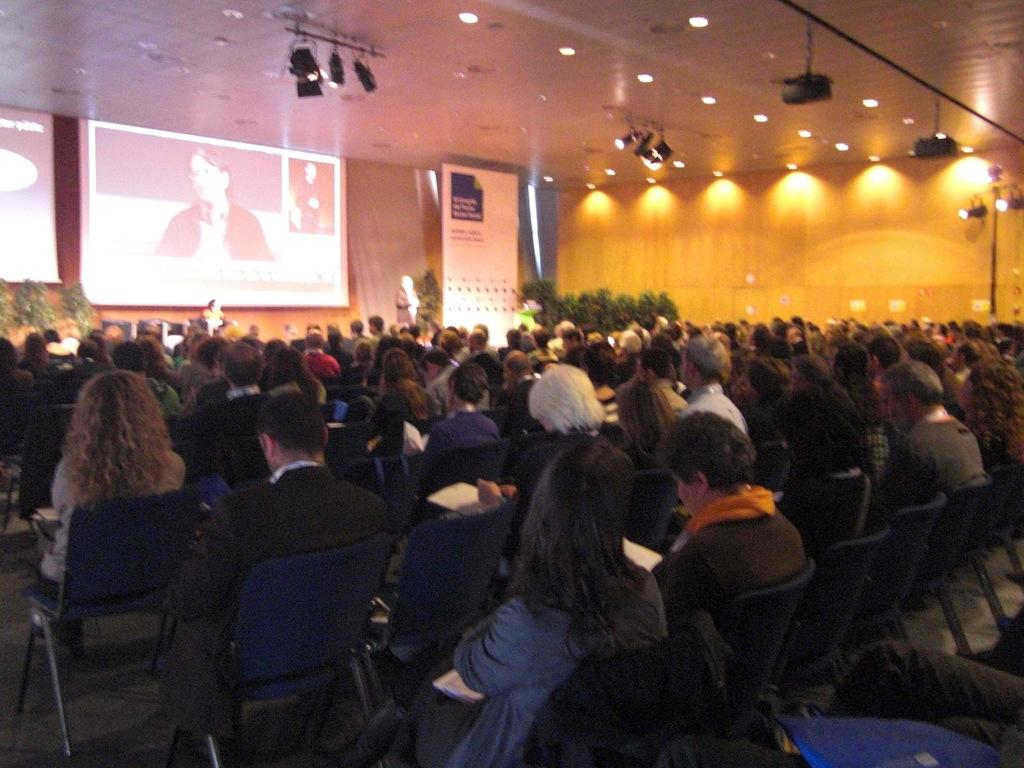Chair: (164, 530, 395, 767), (15, 484, 203, 757)
Computer-monitor: (76, 114, 351, 310)
